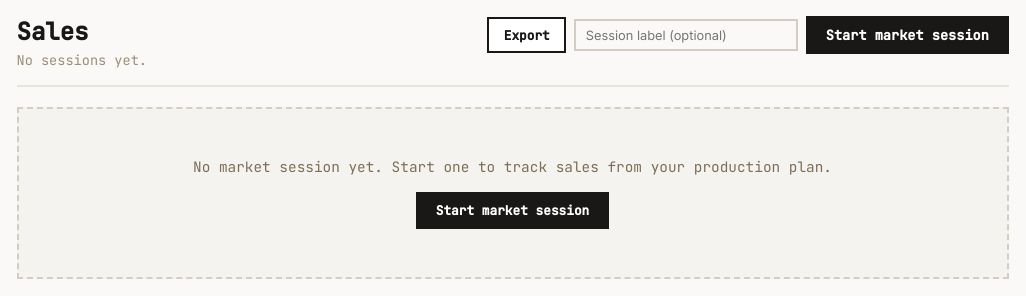
Test: SalesView › closes a session: clears active, appends to history, shows flash
Click the button with test id "sales-start-btn". click: x=907, y=35
box: [806,16,1008,54]
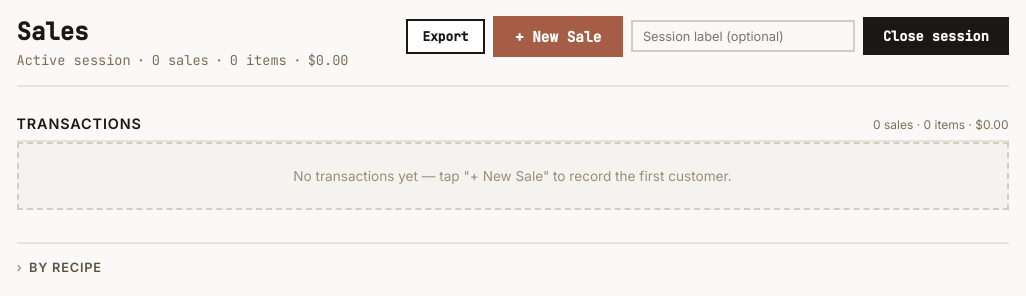
Click the button with test id "sales-close-btn". click: x=936, y=36
box: [863,17,1008,55]
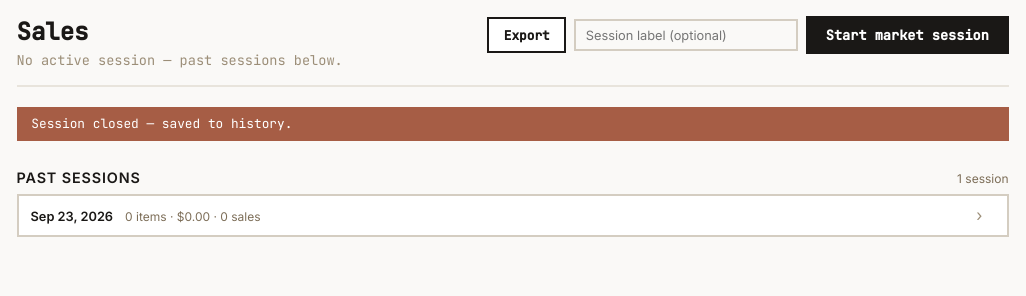
expect the message "Session closed — saved to history." is shown: met, box [16,107,1008,141]
expect the element with test id "sales-history" is shown: met, box [16,161,1008,261]
